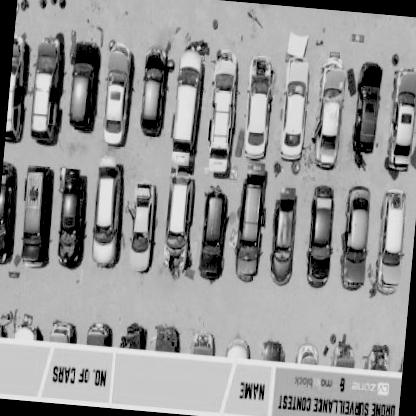car: (232, 70, 278, 275), (164, 52, 206, 242), (310, 58, 348, 171), (372, 185, 410, 296), (336, 186, 374, 292), (89, 157, 124, 271), (206, 56, 238, 178), (54, 165, 90, 267), (162, 170, 195, 278), (304, 185, 338, 288), (101, 42, 134, 146), (19, 166, 52, 266), (29, 39, 59, 146), (351, 64, 383, 158), (6, 34, 32, 148), (278, 75, 310, 165), (269, 185, 298, 284), (127, 178, 157, 272), (138, 46, 168, 139)
